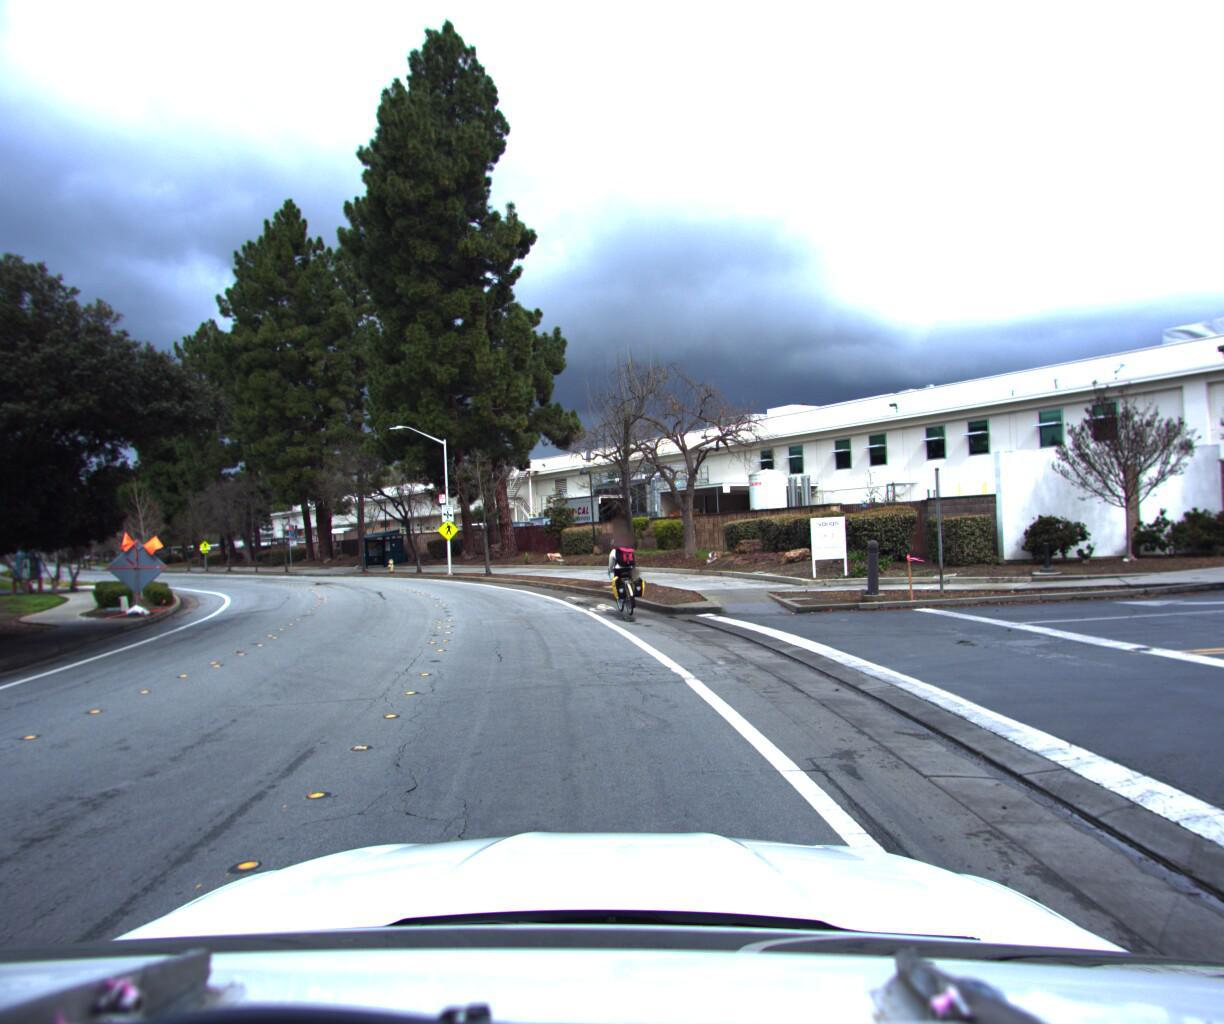bicycle: (592, 534, 649, 620)
truck: (540, 489, 642, 546), (395, 515, 432, 552)
